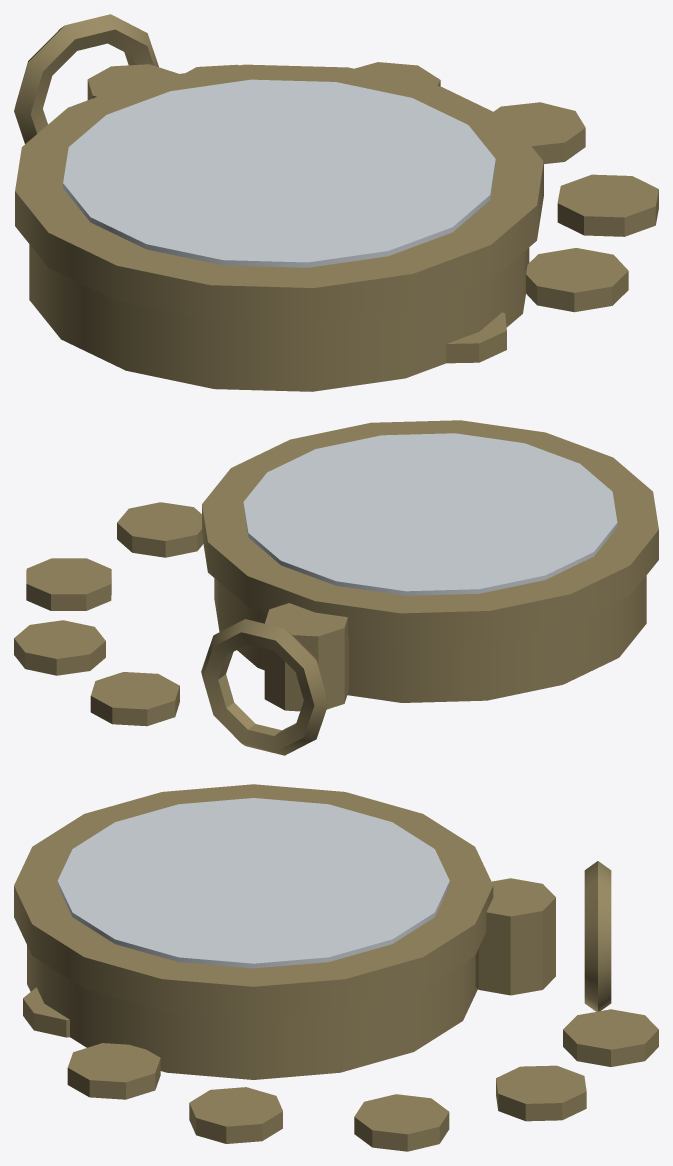
File: Loot_Timepiece_PocketWatch.fbx
The picture shows the model from 3 angles, top to bottom: view 1: azimuth 30°, elevation 25°; view 2: azimuth 150°, elevation 25°; view 3: azimuth 270°, elevation 25°; orthographic projection. The views are drawn at different scales.
Parts seen in each view (by area): view 1: Loot_Timepiece_PocketWatch; view 2: Loot_Timepiece_PocketWatch; view 3: Loot_Timepiece_PocketWatch.
Part boxes in pixels (x1=…): Loot_Timepiece_PocketWatch: x1=14, y1=14, x2=658, y2=391; Loot_Timepiece_PocketWatch: x1=14, y1=420, x2=658, y2=755; Loot_Timepiece_PocketWatch: x1=14, y1=784, x2=658, y2=1151.
Bounding box in the file's own units: 7.3 × 1.67 × 7.4.
